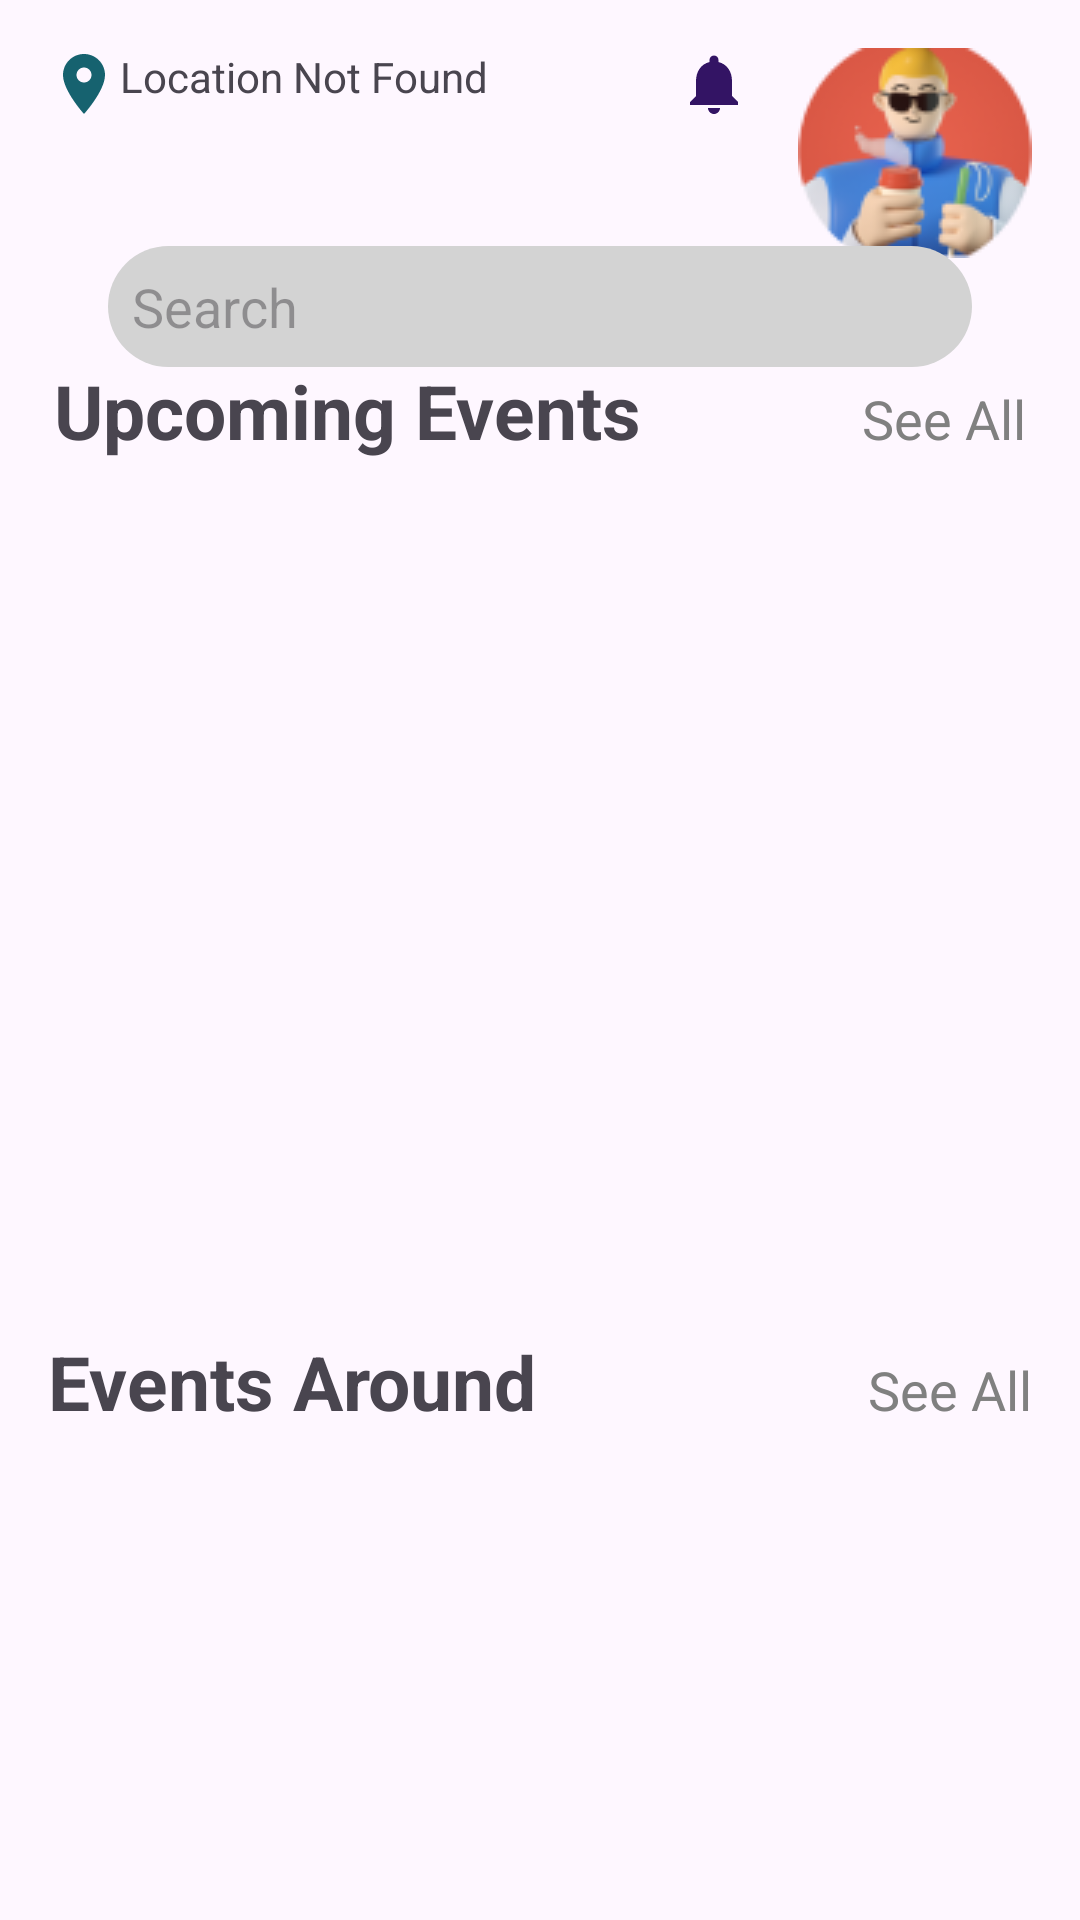

Icons on this 1080px×1920px Android screen, each with its box as (x1, y1, x2, y2):
Notifications: (690, 55, 738, 114)
User Icon: (798, 48, 1032, 258)
